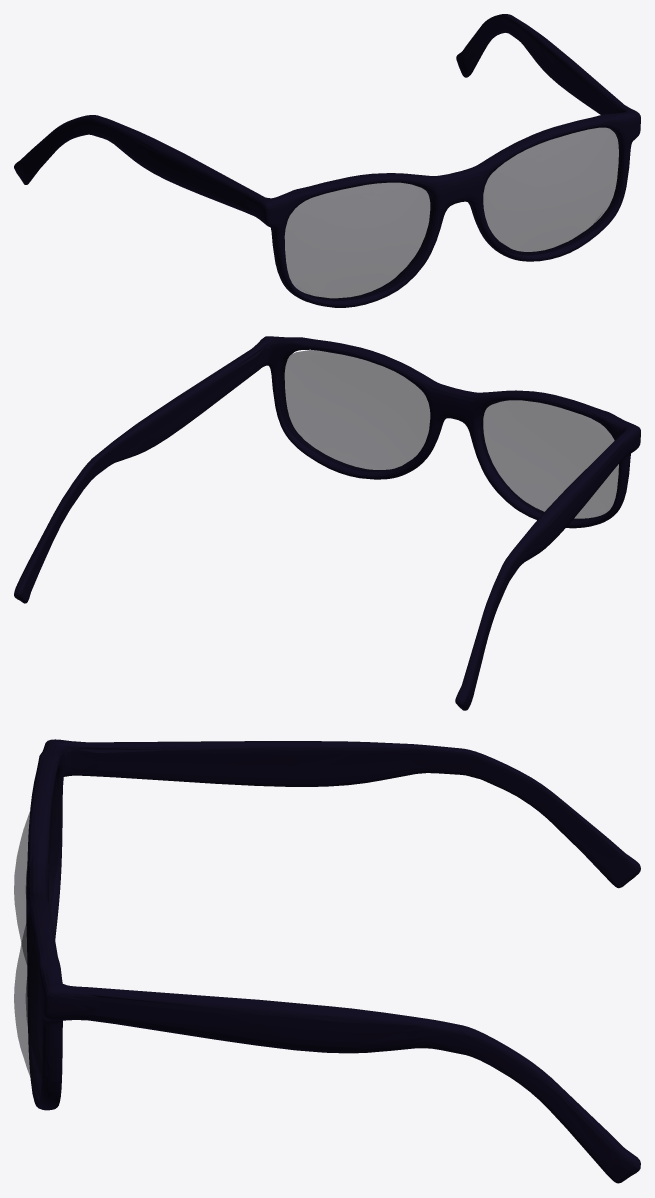
Rendered from glasses2.glb.
The picture shows the model from 3 angles, top to bottom: view 1: azimuth 30°, elevation 25°; view 2: azimuth 150°, elevation 25°; view 3: azimuth 270°, elevation 25°; orthographic projection. The views are drawn at different scales.
Parts seen in each view (by area): view 1: lenses, frames; view 2: frames, lenses; view 3: frames, lenses.
Part boxes in pixels (box(x1,y1,x2,y2)): lenses: box(284, 127, 618, 300); frames: box(14, 14, 640, 307); frames: box(14, 336, 640, 710); lenses: box(278, 350, 618, 520); frames: box(26, 739, 640, 1183); lenses: box(14, 773, 60, 1097).
Bounding box in the file's own units: 240 × 66.94 × 210.
